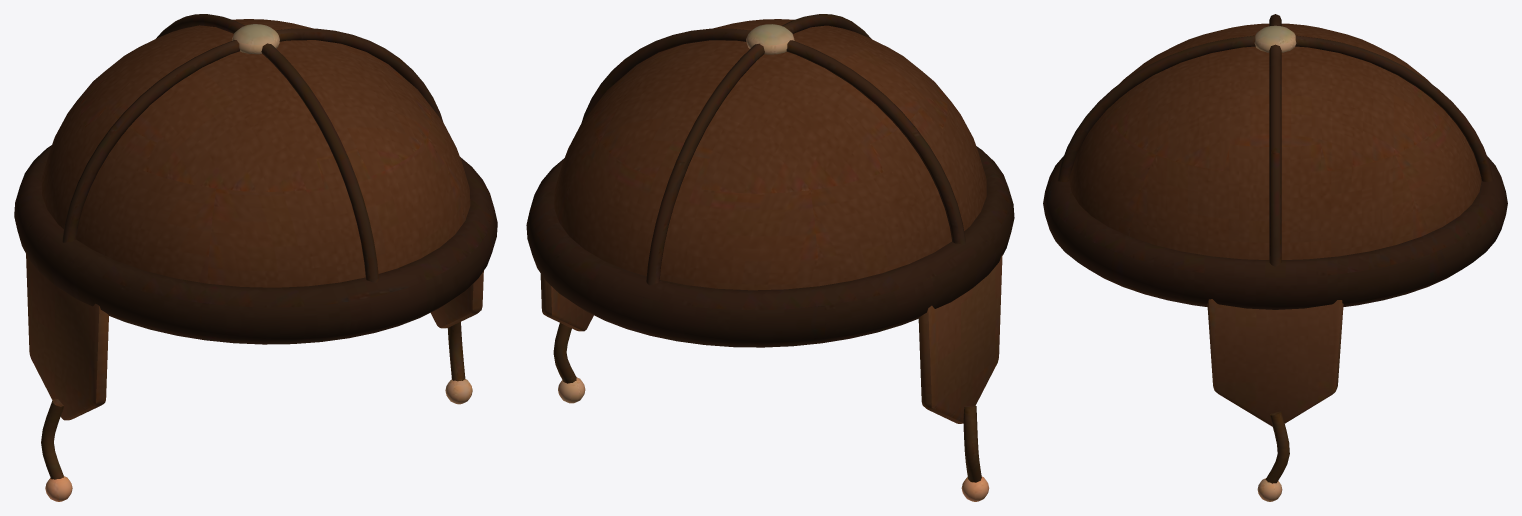
File: leather_cap.glb
The picture shows the model from 3 angles, left to right: view 1: azimuth 30°, elevation 25°; view 2: azimuth 150°, elevation 25°; view 3: azimuth 270°, elevation 25°; orthographic projection. The views are drawn at different scales.
Parts seen in each view (by area): view 1: leather_cap; view 2: leather_cap; view 3: leather_cap.
Part boxes in pixels (x1,y1,x2,y2): leather_cap: (14, 14, 497, 501); leather_cap: (526, 14, 1014, 501); leather_cap: (1043, 14, 1507, 501).
Size of the model in its own units: 0.322 by 0.3066 by 0.337.
1 material, 1 textured.
